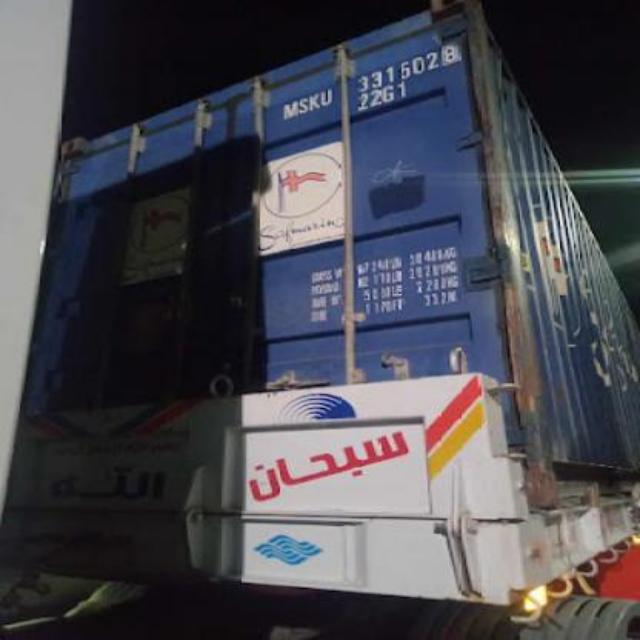0: (412, 53, 428, 77)
1: (384, 62, 398, 84)
2: (424, 47, 440, 71)
3: (358, 72, 370, 92), (372, 70, 384, 86)
5: (398, 58, 412, 82)
8: (440, 40, 460, 70)
K: (308, 91, 324, 112)
M: (282, 100, 300, 122)
S: (298, 95, 312, 115)
U: (320, 88, 336, 109)
